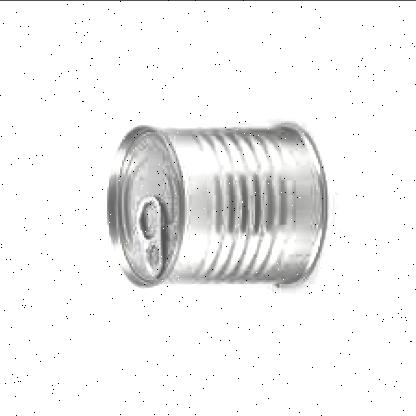Can: (101, 116, 331, 290)
